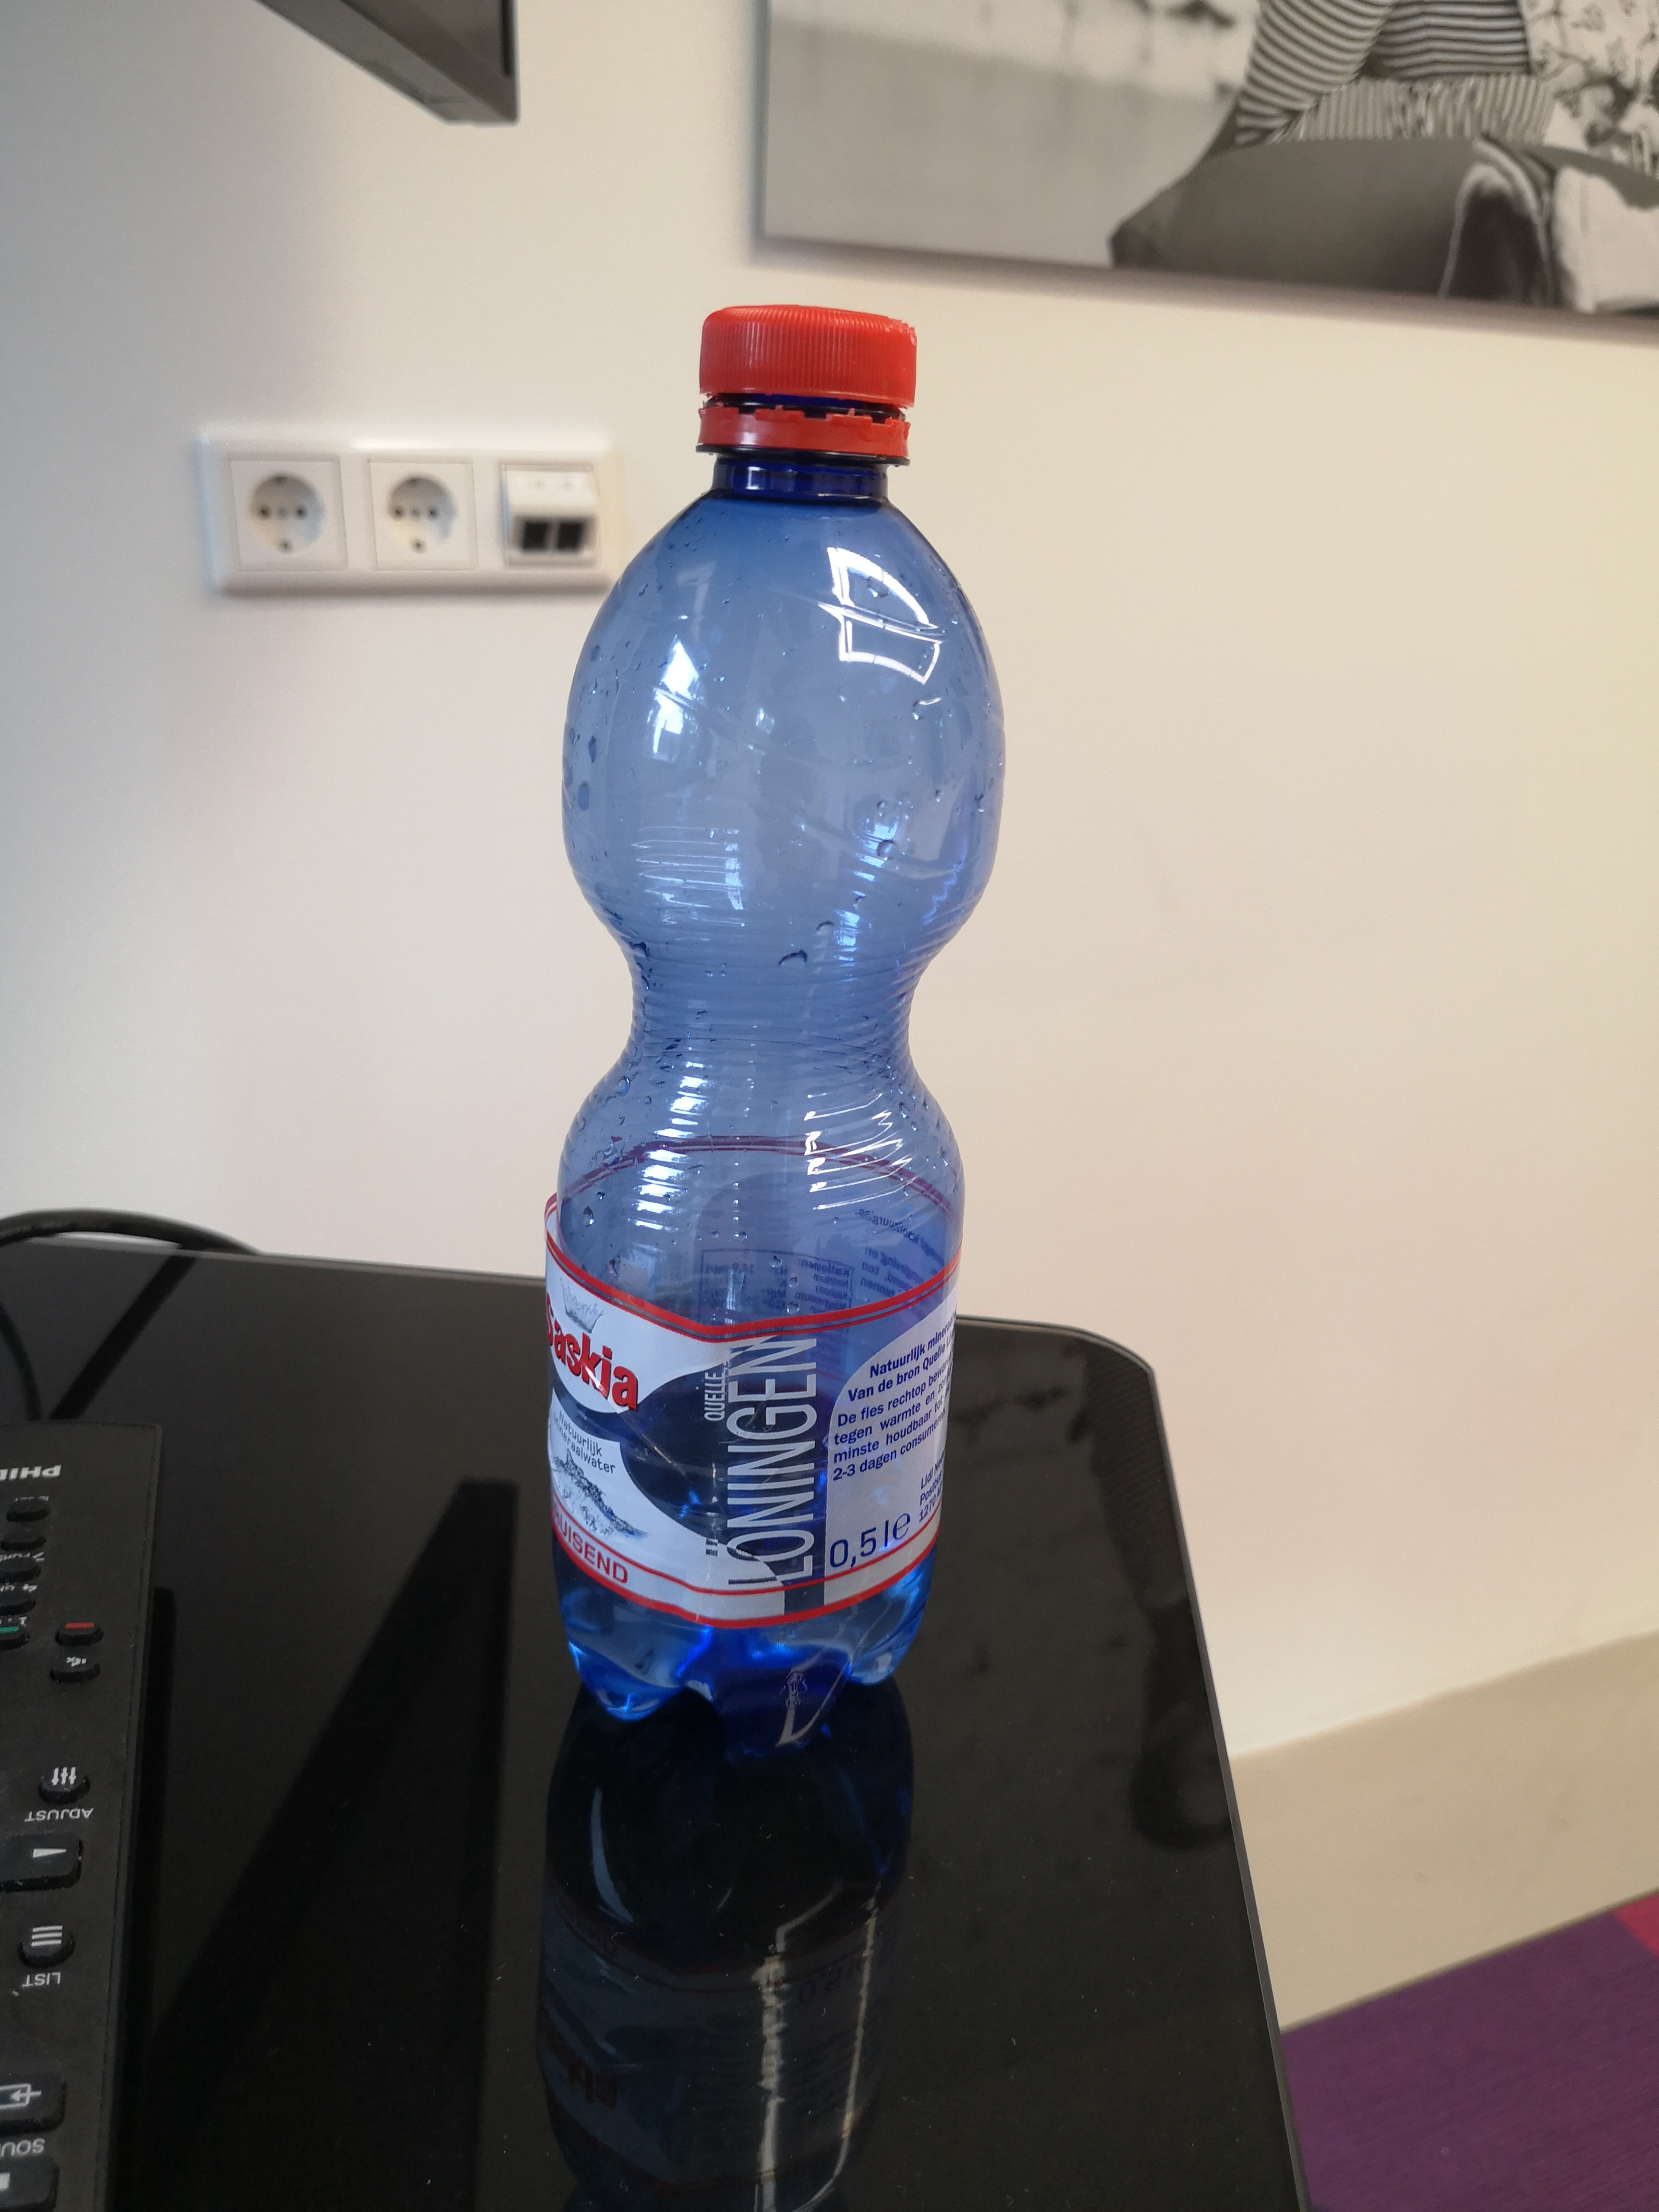plastic_bottle: (504, 275, 1033, 1747)
